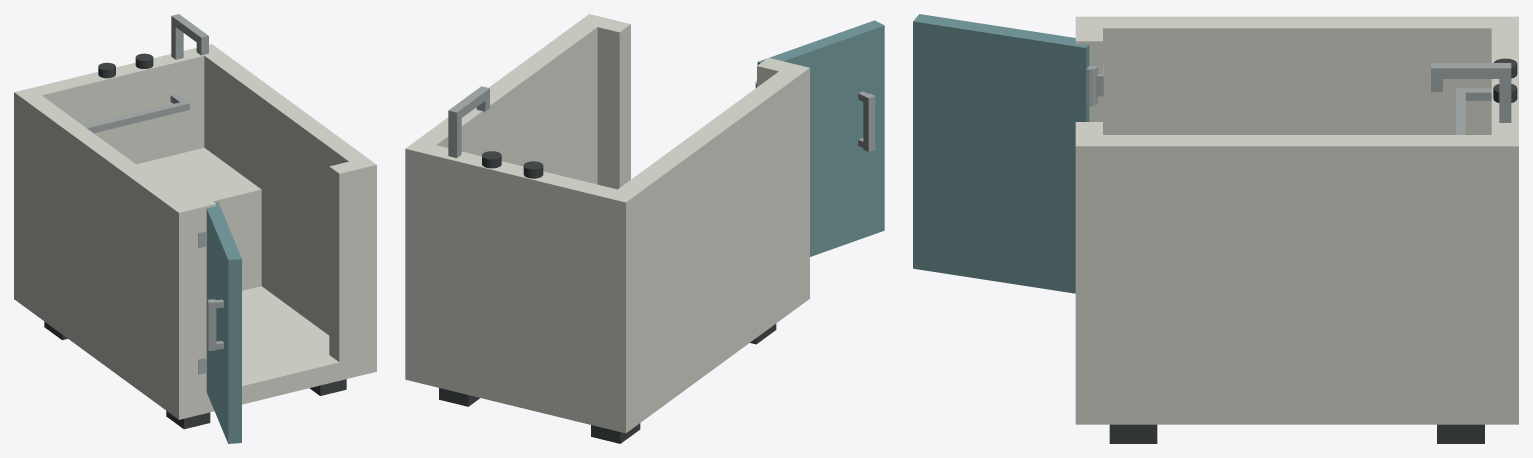
The picture shows the model from 3 angles, left to right: view 1: azimuth 30°, elevation 25°; view 2: azimuth 150°, elevation 25°; view 3: azimuth 270°, elevation 25°; orthographic projection. The views are drawn at different scales.
Visible parts, largest first — view 1: WholeSteppedSeatFootwellAndDoorwayShell, WholeFixedOpenDoor, WholeRearOpenGrab, WholeContinuousReturnTap, WholeDoorGripBridge, WholeGroundFoot_(-0.31, -0.48), WholeGroundFoot_(0.31, -0.48); view 2: WholeSteppedSeatFootwellAndDoorwayShell, WholeFixedOpenDoor, WholeContinuousReturnTap, WholeDoorGripBridge, WholeGroundFoot_(-0.31, 0.48); view 3: WholeSteppedSeatFootwellAndDoorwayShell, WholeFixedOpenDoor, WholeContinuousReturnTap, WholeGroundFoot_(0.31, -0.48), WholeGroundFoot_(0.31, 0.48), WholeRearOpenGrab.
Part boxes in pixels (x1,y1,x2,y2): WholeSteppedSeatFootwellAndDoorwayShell: [14, 44, 376, 419]; WholeFixedOpenDoor: [206, 202, 241, 443]; WholeRearOpenGrab: [74, 94, 189, 133]; WholeContinuousReturnTap: [171, 14, 208, 59]; WholeDoorGripBridge: [207, 299, 216, 350]; WholeGroundFoot_(-0.31, -0.48): [166, 411, 210, 429]; WholeGroundFoot_(0.31, -0.48): [309, 379, 346, 395]; WholeSteppedSeatFootwellAndDoorwayShell: [405, 14, 809, 433]; WholeFixedOpenDoor: [757, 20, 884, 256]; WholeContinuousReturnTap: [448, 86, 489, 157]; WholeDoorGripBridge: [863, 93, 875, 151]; WholeGroundFoot_(-0.31, 0.48): [591, 423, 640, 443]; WholeSteppedSeatFootwellAndDoorwayShell: [1075, 16, 1518, 424]; WholeFixedOpenDoor: [913, 14, 1089, 293]; WholeContinuousReturnTap: [1431, 63, 1511, 122]; WholeGroundFoot_(0.31, -0.48): [1109, 424, 1157, 443]; WholeGroundFoot_(0.31, 0.48): [1437, 424, 1484, 443]; WholeRearOpenGrab: [1456, 88, 1491, 134].
Bounding box in the file's own units: 0.9658 × 1.18 × 1.78.
